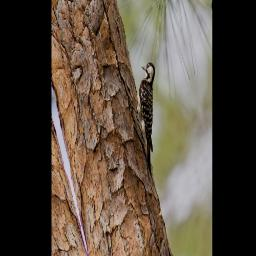Woodpecker: (124, 56, 176, 185)
